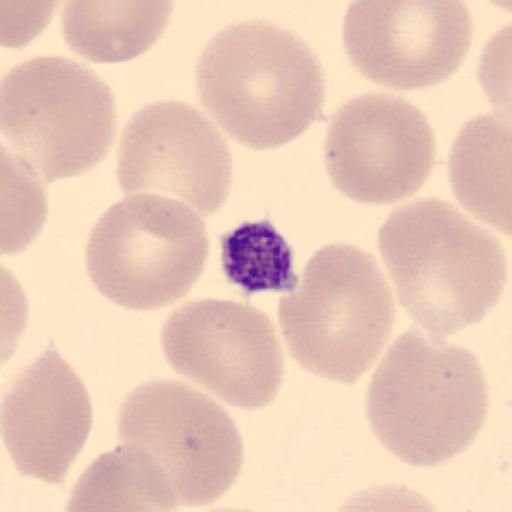Platelet: (218, 217, 301, 296)
RBC: (375, 196, 508, 339), (112, 375, 246, 512), (362, 328, 490, 470), (194, 17, 327, 152), (276, 243, 398, 386), (82, 191, 210, 313), (113, 95, 235, 221), (1, 53, 117, 184), (159, 297, 285, 411), (321, 90, 438, 206), (2, 348, 95, 486), (339, 1, 476, 92), (62, 443, 180, 512), (446, 110, 512, 232), (60, 0, 176, 65), (2, 148, 51, 258), (318, 482, 447, 512), (476, 20, 512, 116), (0, 265, 30, 370), (1, 0, 60, 51), (184, 503, 278, 512), (470, 0, 511, 14), (479, 0, 511, 17)
